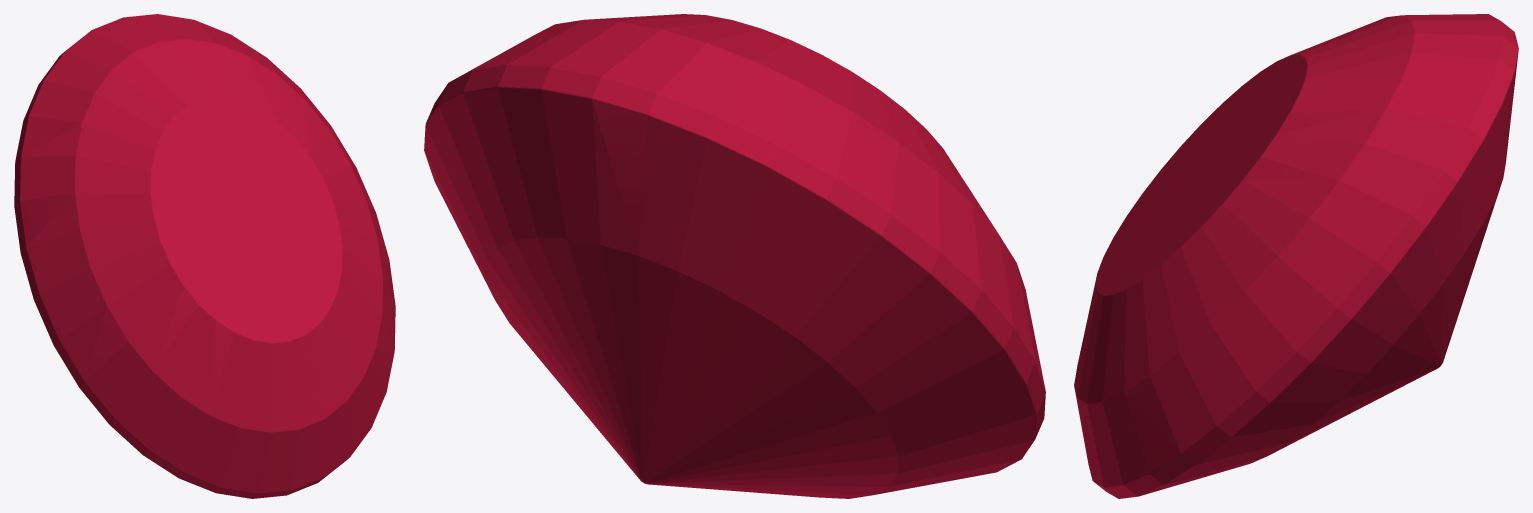
The model's file is ruby.glb.
3 renders of one model, left to right at view 1: azimuth 30°, elevation 25°; view 2: azimuth 150°, elevation 25°; view 3: azimuth 270°, elevation 25°, orthographic. The views are drawn at different scales.
Parts seen in each view (by area): view 1: ruby.001; view 2: ruby.001; view 3: ruby.001.
Boxes of the visible parts, x1=… form: ruby.001: x1=14, y1=14, x2=395, y2=498; ruby.001: x1=424, y1=14, x2=1045, y2=498; ruby.001: x1=1074, y1=14, x2=1518, y2=498.
Bounding box in the file's own units: 1.75 × 1.79 × 1.63.
